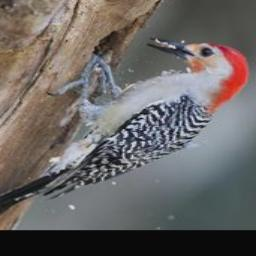Woodpecker: (0, 38, 249, 221)
